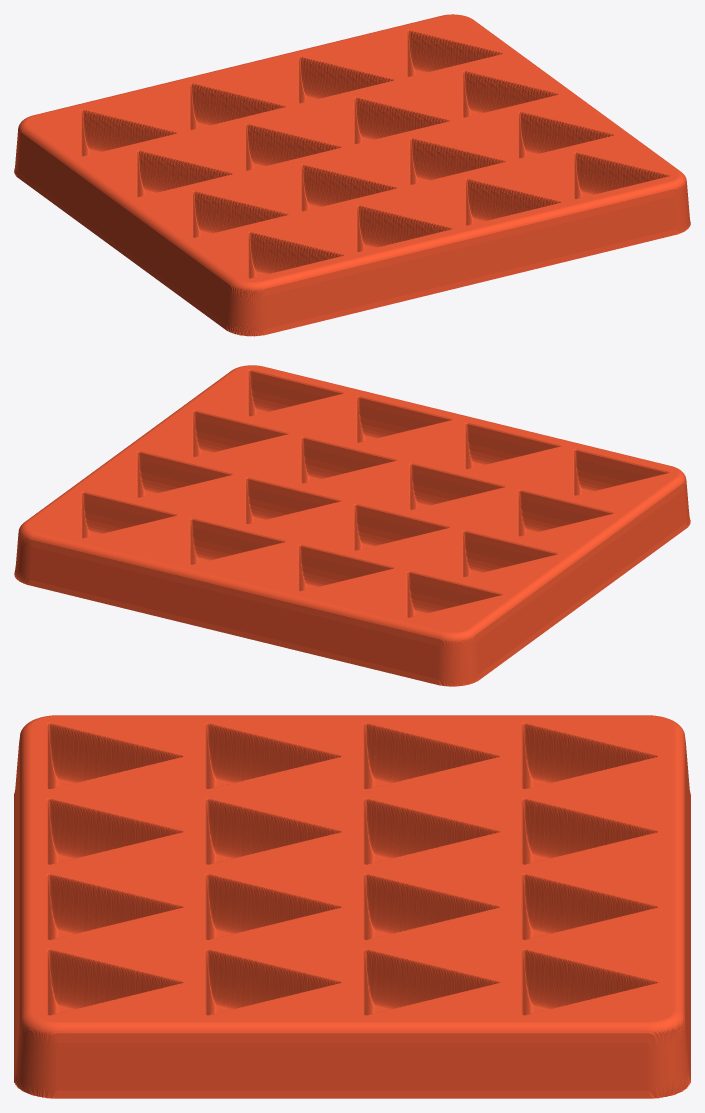
File: mold.glb
The picture shows the model from 3 angles, top to bottom: view 1: azimuth 30°, elevation 25°; view 2: azimuth 150°, elevation 25°; view 3: azimuth 270°, elevation 25°; orthographic projection. The views are drawn at different scales.
Parts seen in each view (by area): view 1: geometry_0; view 2: geometry_0; view 3: geometry_0.
Part boxes in pixels (x1,y1,x2,y2): geometry_0: [14, 14, 690, 336]; geometry_0: [14, 365, 690, 686]; geometry_0: [14, 715, 690, 1098].
Bounding box in the file's own units: 0.1569 × 0.0159 × 0.1402.
